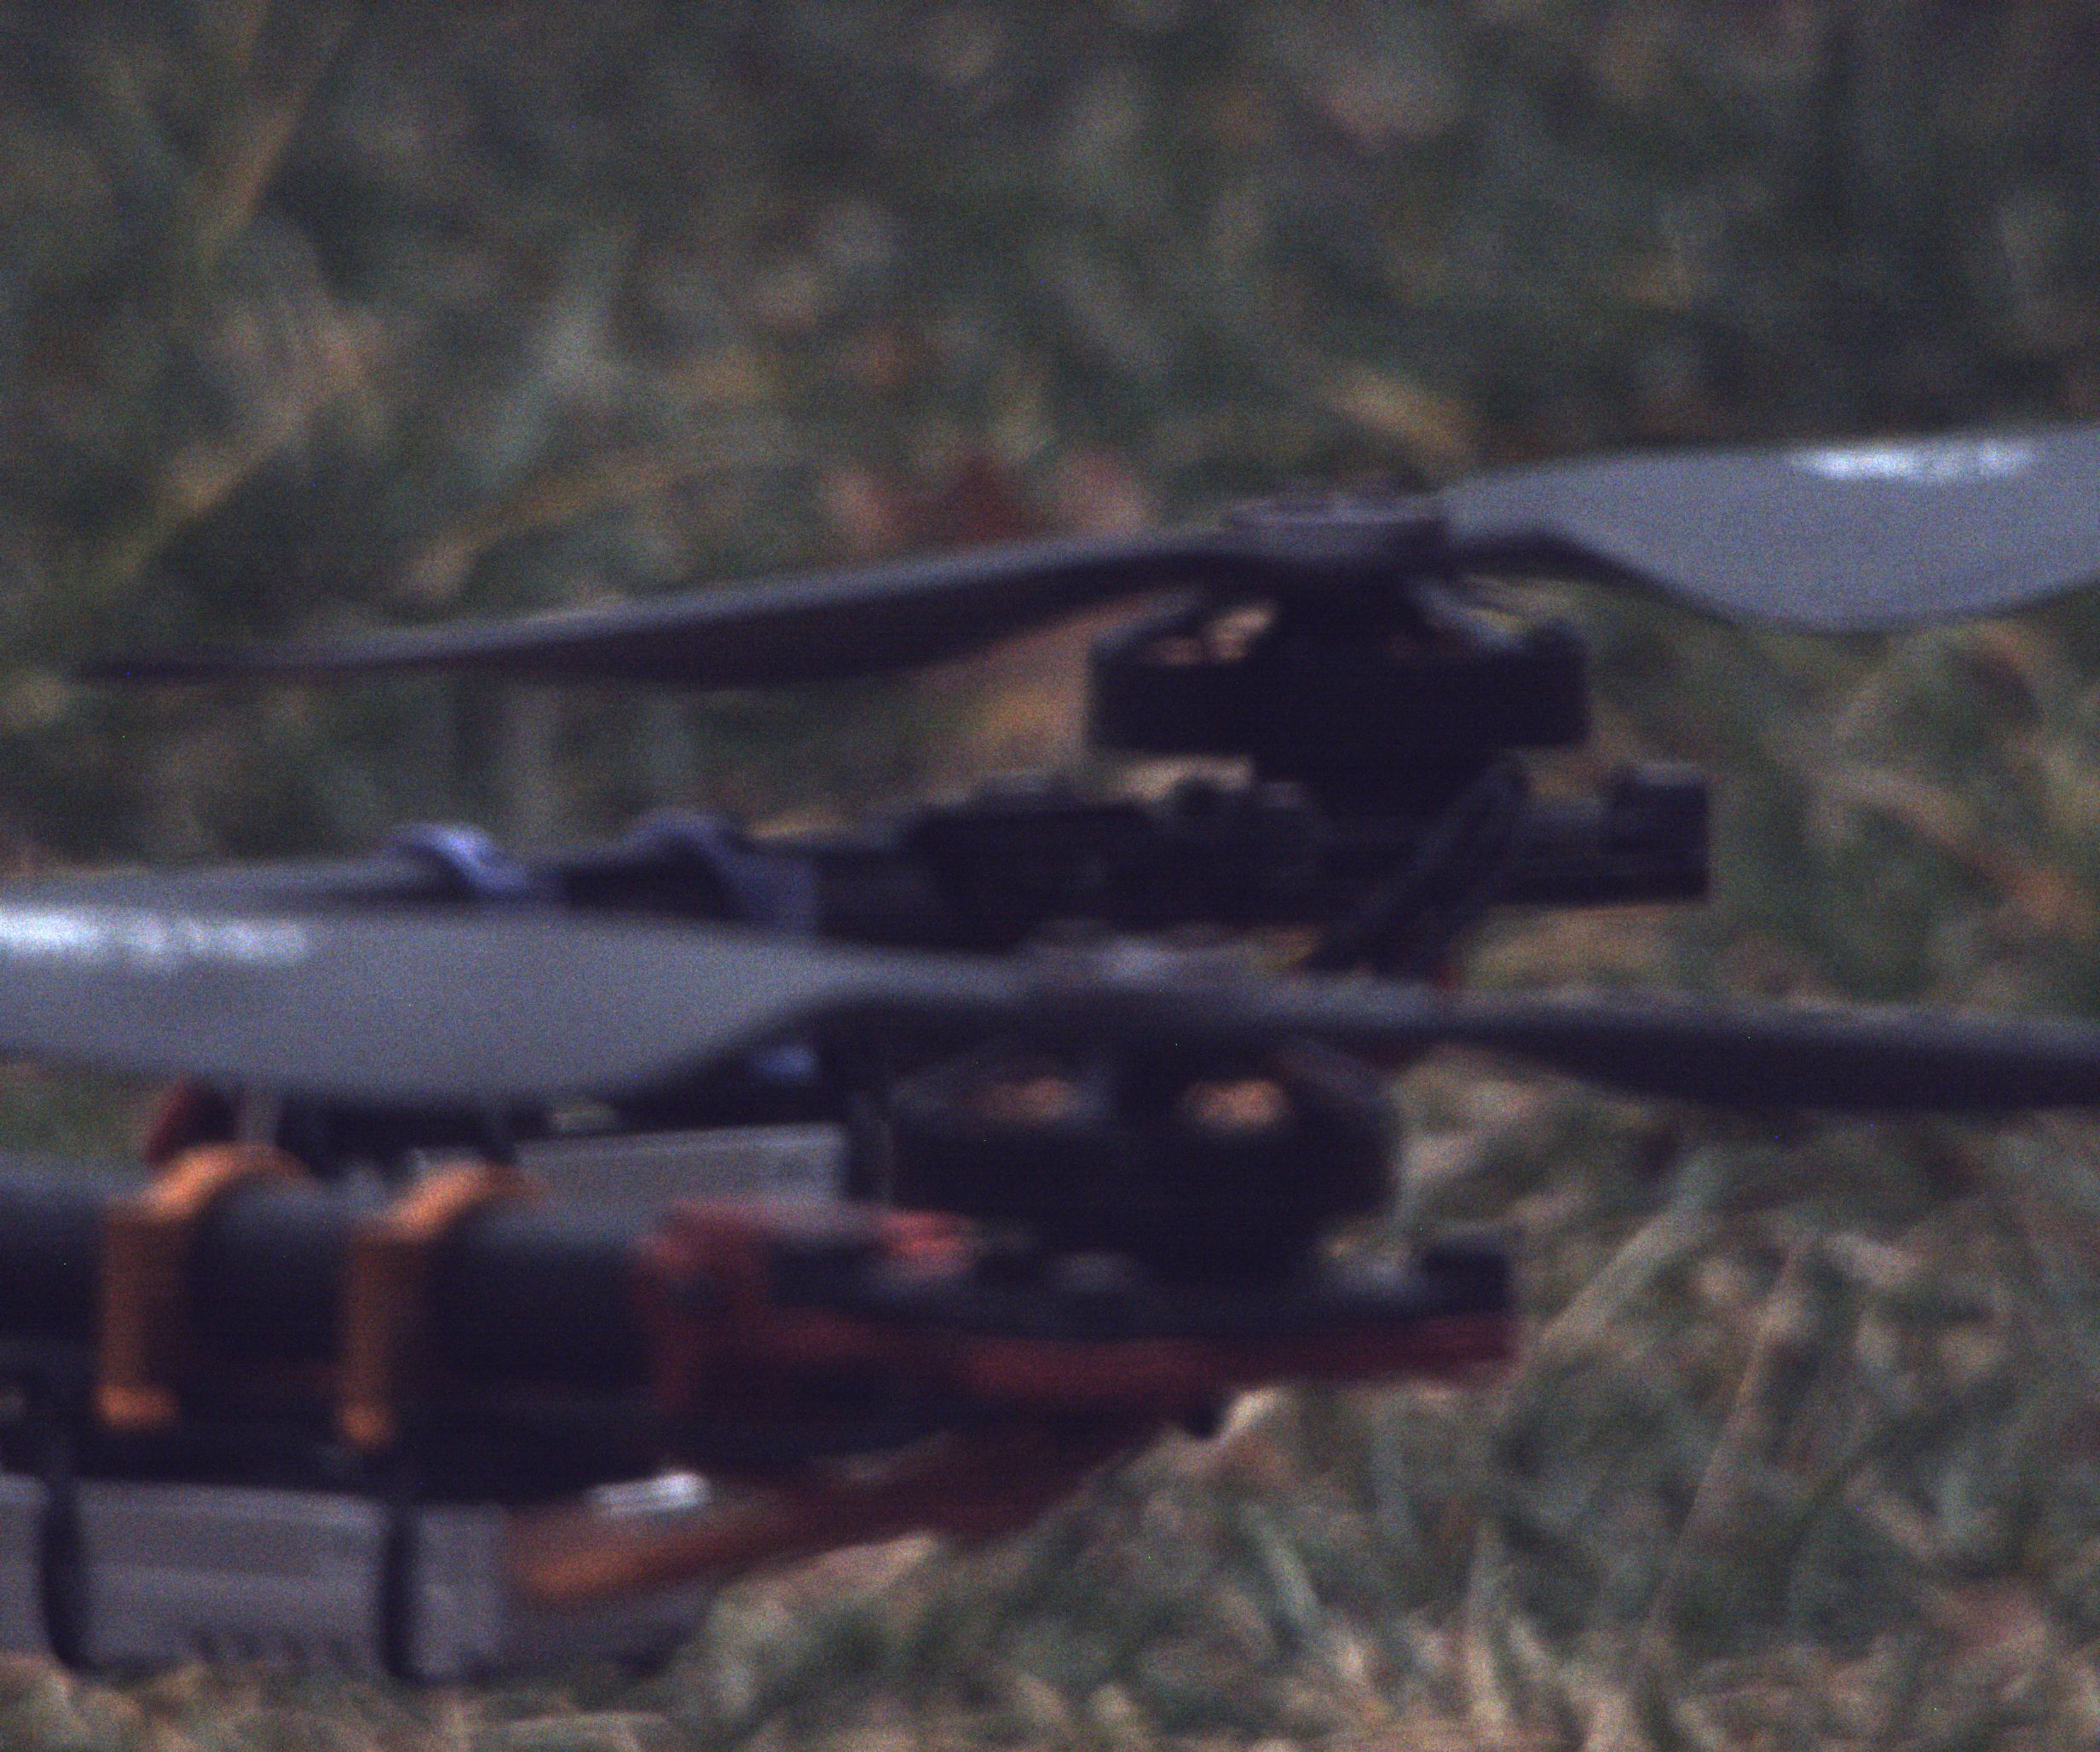Drohne: (26, 427, 2100, 1714)
